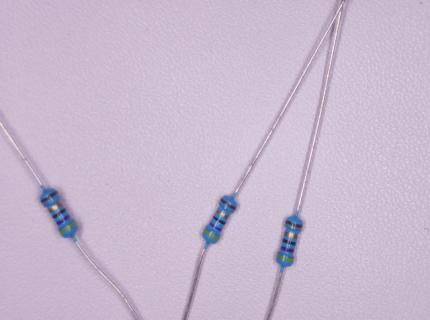Black band: (52, 208, 67, 219), (213, 215, 226, 226), (282, 238, 296, 247)
Brown band: (40, 190, 58, 204), (220, 198, 237, 211), (285, 220, 302, 228)
Gold band: (48, 201, 63, 213), (216, 209, 230, 219), (284, 232, 298, 239)
Violet band: (56, 213, 71, 226), (209, 222, 222, 232), (281, 246, 294, 253)
Yellow band: (59, 221, 77, 235), (204, 229, 220, 241), (276, 254, 294, 263)
